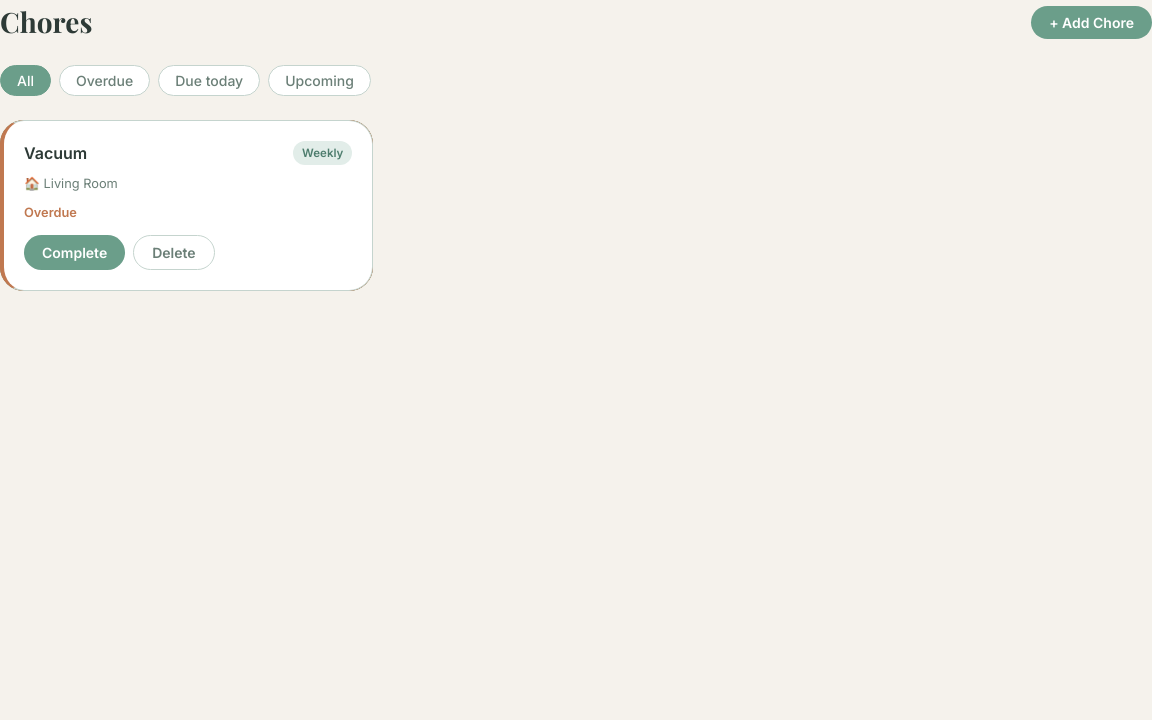
Test case: Chores › edit modal › shows completion count in detail strip
Click the text "Vacuum" at (56, 154), box [24,141,87,166]
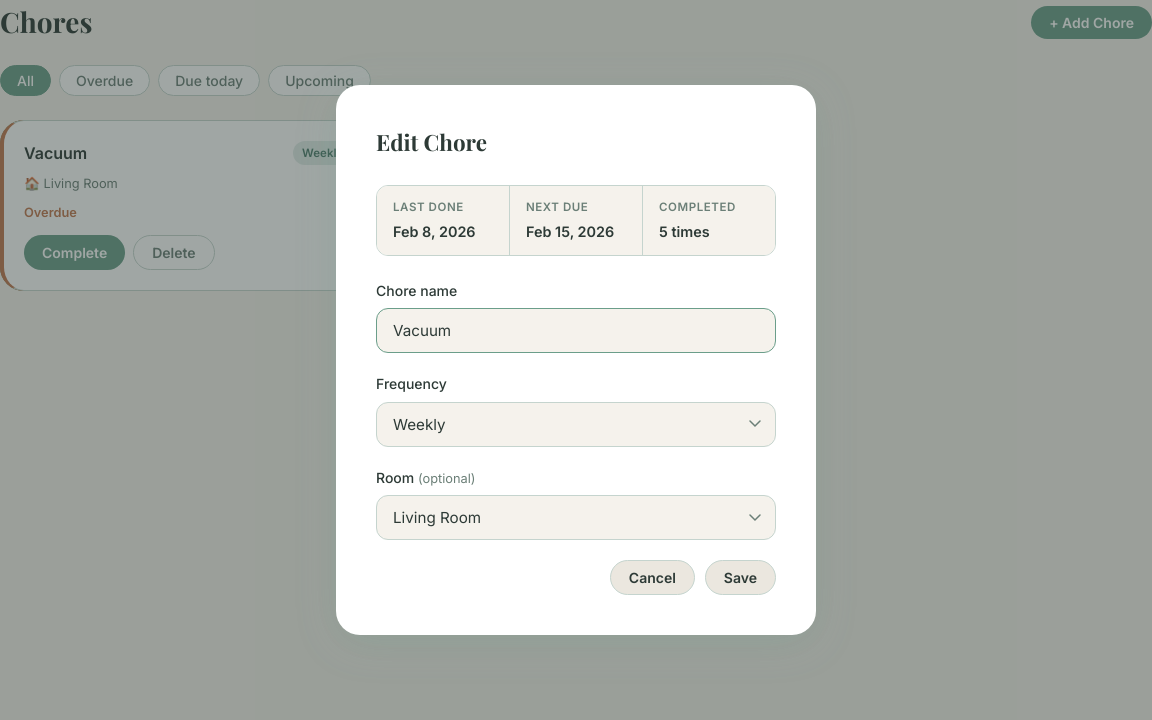
Check: the text "5 times" is shown, box [659,223,710,240]
